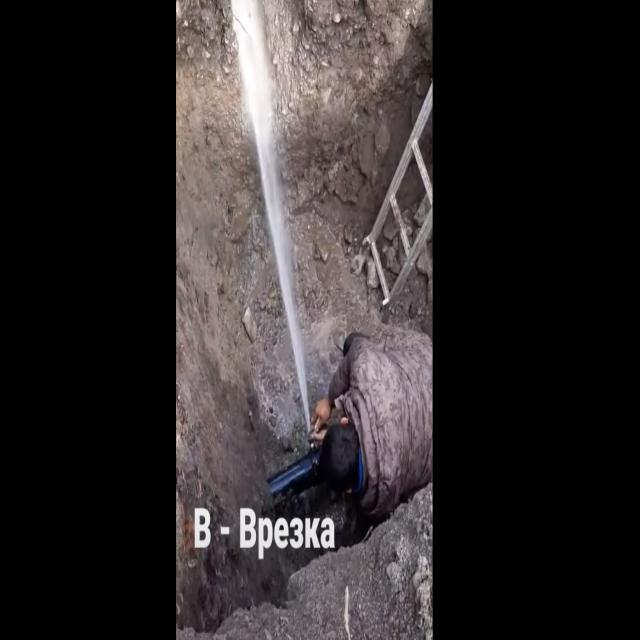leak: (229, 0, 312, 439)
